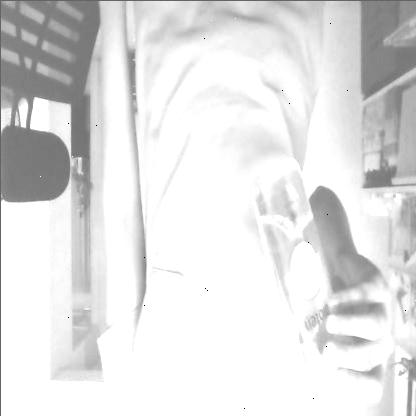Plastic Bottle: (244, 149, 352, 413)
